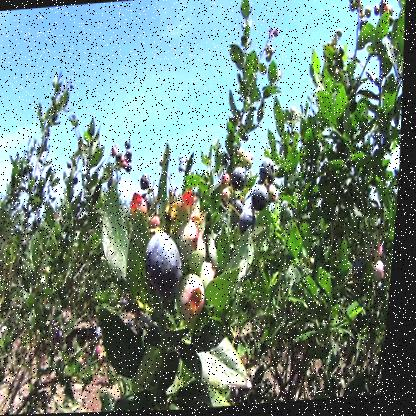intermediate: (175, 192, 197, 222), (132, 196, 153, 221), (224, 173, 237, 205)
mature: (147, 232, 191, 294), (255, 184, 275, 212), (262, 158, 281, 183), (234, 169, 253, 192), (242, 210, 259, 233)
young: (180, 223, 215, 274), (183, 276, 210, 327), (239, 147, 258, 167)
